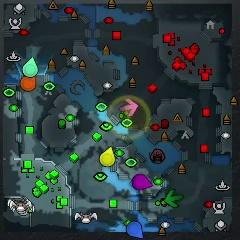p1: (127, 220, 144, 239)
p2: (23, 56, 37, 77)
p3: (133, 173, 151, 190)
p4: (100, 147, 116, 166)
p5: (21, 75, 37, 91)
x1: (119, 99, 137, 115)
x4: (165, 189, 182, 206)
